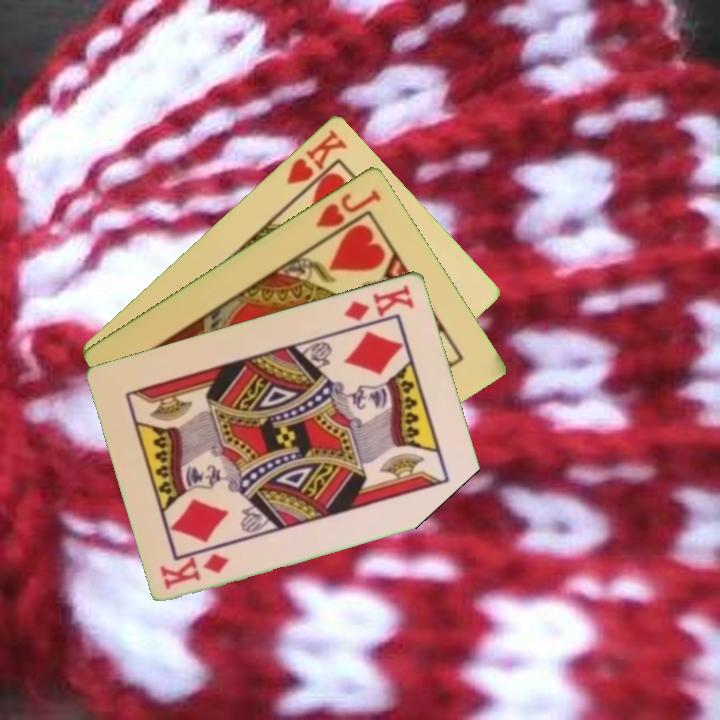Jh: (312, 185, 384, 244)
Kd: (340, 281, 417, 324), (157, 549, 233, 592)
Kh: (282, 125, 351, 201)
